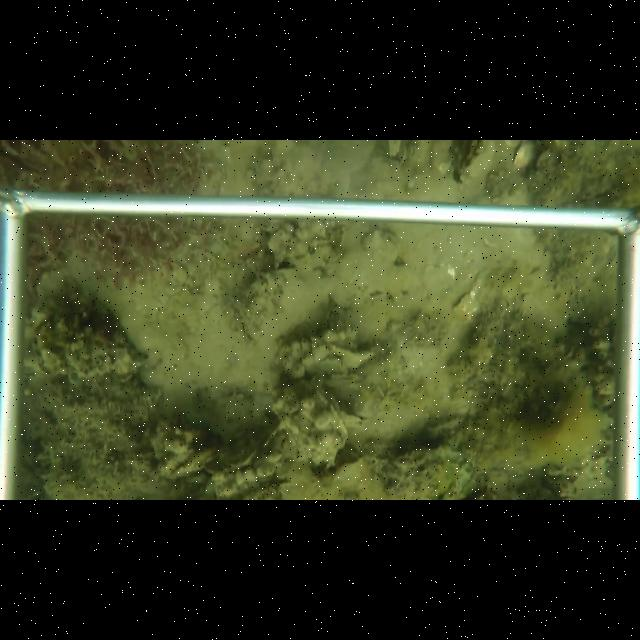Oyster-Closed: (325, 449, 480, 499), (268, 380, 351, 472), (511, 142, 539, 172)
Oyster-Open: (455, 143, 495, 182)
